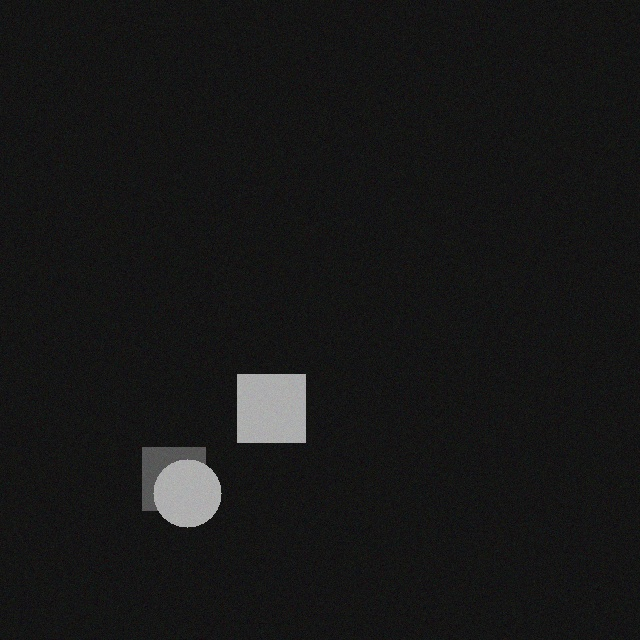circle: (157, 460, 225, 528)
square: (241, 375, 309, 443), (146, 448, 209, 511)
